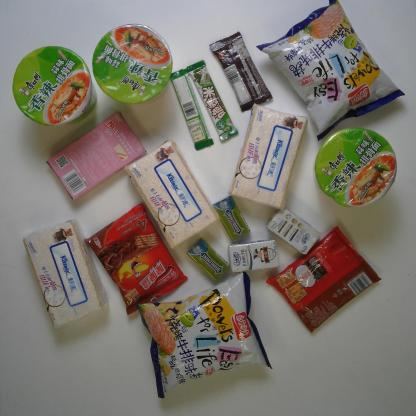Chocolate: (208, 30, 274, 112), (186, 58, 238, 141), (170, 66, 214, 150)
Dessert: (265, 224, 382, 333), (83, 202, 189, 316), (44, 111, 148, 202)
Gum: (186, 237, 230, 283), (212, 194, 252, 241)
Instant Noodles: (312, 123, 400, 210), (11, 46, 98, 128), (91, 21, 174, 106)
Milk: (266, 207, 323, 256), (227, 238, 280, 274)
Puffed Food: (255, 0, 406, 143), (134, 270, 275, 400)
Tissue: (124, 138, 220, 250), (22, 215, 110, 328), (226, 102, 311, 210)
